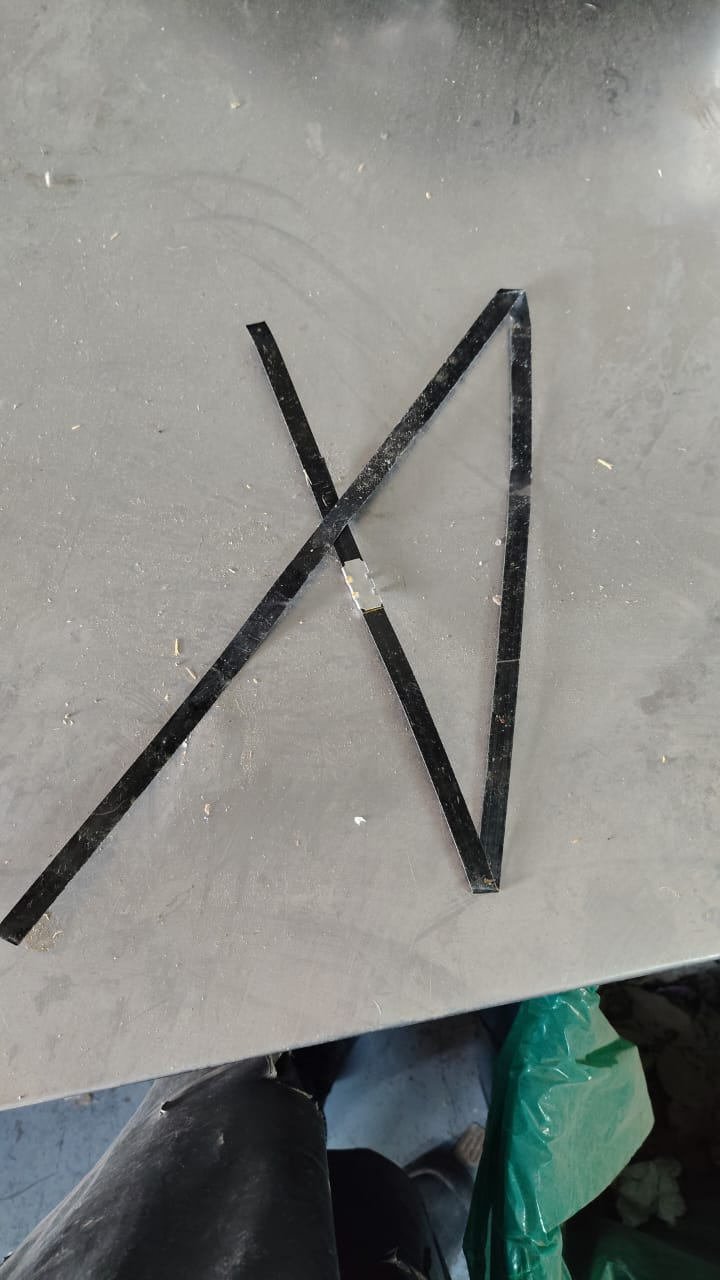Ordinario: (4, 286, 536, 946)
